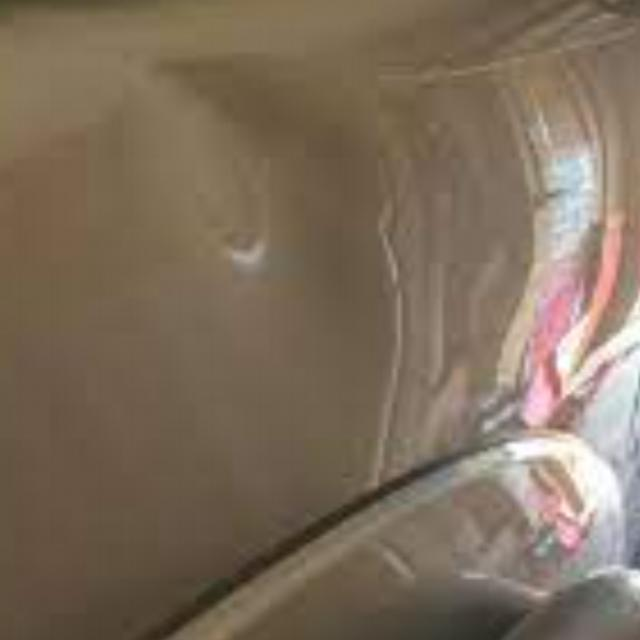dents: (182, 100, 290, 298)
